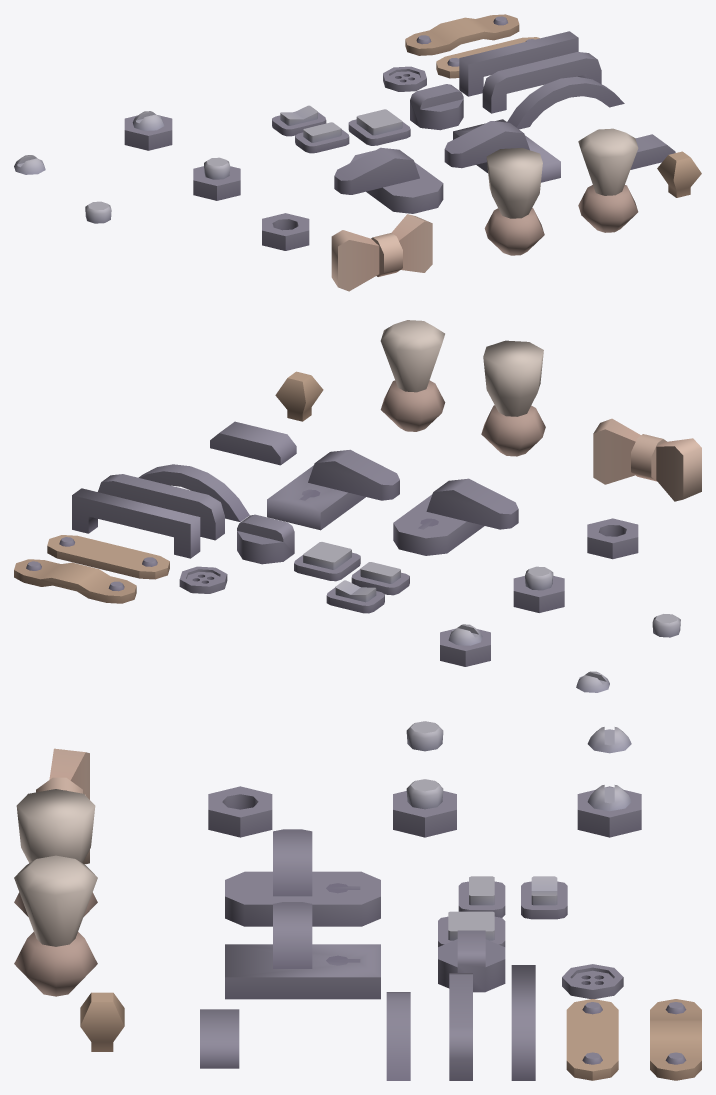
The model's file is studio-handles.glb.
3 views of the same model, one above another, from view 1: azimuth 30°, elevation 25°; view 2: azimuth 150°, elevation 25°; view 3: azimuth 270°, elevation 25° (orthographic). The views are drawn at different scales.
Visible parts, largest first — view 1: tassel-variant-b, bow, handle-door-rounded, tassel-variant-a, handle-door, handle-square-rounded, handle-square, handle-strap-bulge (%thumbnail), handle-rounded, mechanical-knob, attachment-nut-bolt, attachment-nut-screw (+10 smaller); view 2: handle-door, handle-door-rounded, tassel-variant-b, bow, tassel-variant-a, handle-square, handle-square-rounded, handle-strap-bulge (%thumbnail), handle-strap, mechanical-knob, handle-solid, handle-rounded (+9 smaller); view 3: handle-door, handle-door-rounded, tassel-variant-a, tassel-variant-b, handle-strap, handle-strap-bulge (%thumbnail), mechanical-knob, attachment-nut-bolt, handle-square, attachment-nut-screw, attachment-nut, handle-square-rounded (+10 smaller).
Boxes of the visible parts, left/top/right/bottom form: tassel-variant-b: left=484, top=148, right=544, bottom=255; bow: left=331, top=214, right=432, bottom=291; handle-door-rounded: left=334, top=147, right=443, bottom=213; tassel-variant-a: left=578, top=128, right=638, bottom=232; handle-door: left=444, top=119, right=560, bottom=182; handle-square-rounded: left=482, top=52, right=601, bottom=113; handle-square: left=459, top=31, right=578, bottom=96; handle-strap-bulge (%thumbnail): left=405, top=14, right=519, bottom=55; handle-rounded: left=507, top=76, right=624, bottom=129; mechanical-knob: left=410, top=84, right=463, bottom=130; attachment-nut-bolt: left=193, top=157, right=240, bottom=200; attachment-nut-screw: left=124, top=111, right=172, bottom=150; handle-door: left=267, top=449, right=399, bottom=530; handle-door-rounded: left=393, top=478, right=518, bottom=555; tassel-variant-b: left=481, top=340, right=545, bottom=456; bow: left=593, top=418, right=701, bottom=501; tassel-variant-a: left=380, top=320, right=445, bottom=431; handle-square: left=72, top=488, right=200, bottom=558; handle-square-rounded: left=98, top=474, right=224, bottom=540; handle-strap-bulge (%thumbnail): left=14, top=559, right=136, bottom=603; handle-strap: left=47, top=535, right=169, bottom=579; mechanical-knob: left=237, top=514, right=294, bottom=564; handle-solid: left=210, top=421, right=296, bottom=465; handle-rounded: left=138, top=464, right=249, bottom=522; handle-door: left=225, top=902, right=380, bottom=999; handle-door-rounded: left=225, top=829, right=380, bottom=926; tassel-variant-a: left=14, top=855, right=97, bottom=996; tassel-variant-b: left=14, top=789, right=97, bottom=916; handle-strap: left=566, top=999, right=618, bottom=1080; handle-strap-bulge (%thumbnail): left=650, top=999, right=701, bottom=1080; mechanical-knob: left=438, top=930, right=505, bottom=992; attachment-nut-bolt: left=393, top=779, right=456, bottom=837; handle-square: left=511, top=965, right=535, bottom=1080; attachment-nut-screw: left=577, top=785, right=641, bottom=837; attachment-nut: left=208, top=786, right=272, bottom=837; handle-square-rounded: left=449, top=973, right=472, bottom=1080.
Bounding box in the file's own units: 0.7875 × 0.1296 × 0.6614.
